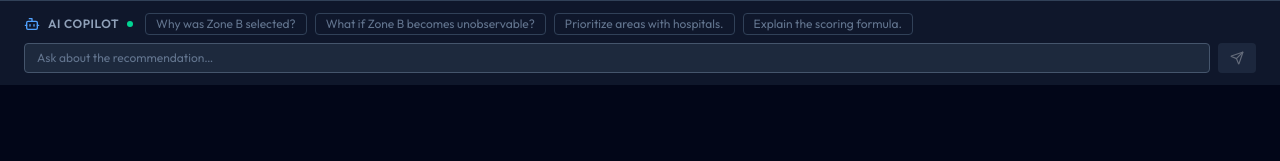
Test: AICopilot › shows GEMINI_API_KEY hint when generic network error occurs
Type "Hello" into the field named "ai copilot input".
click(617, 58); type("Hello")  # box [24, 43, 1210, 73]
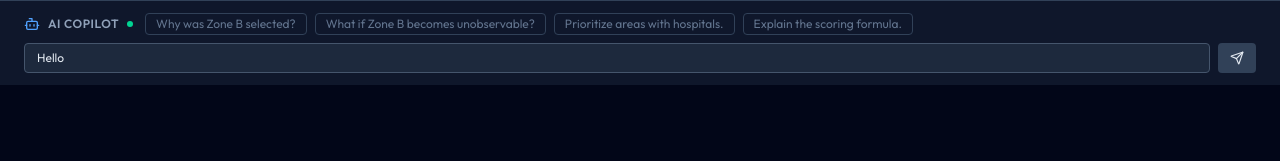
Press Enter in the field named "ai copilot input", box [24, 43, 1210, 73]
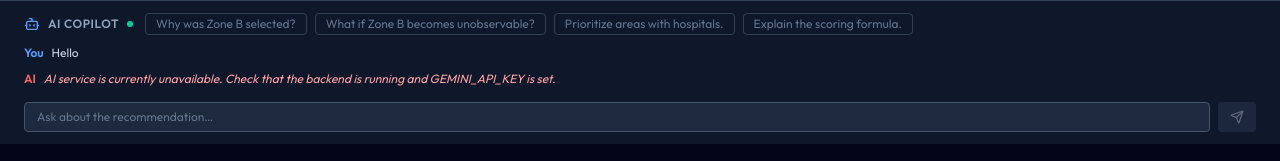
Expected: the text "GEMINI_API_KEY" is shown, [44, 70, 555, 86]
